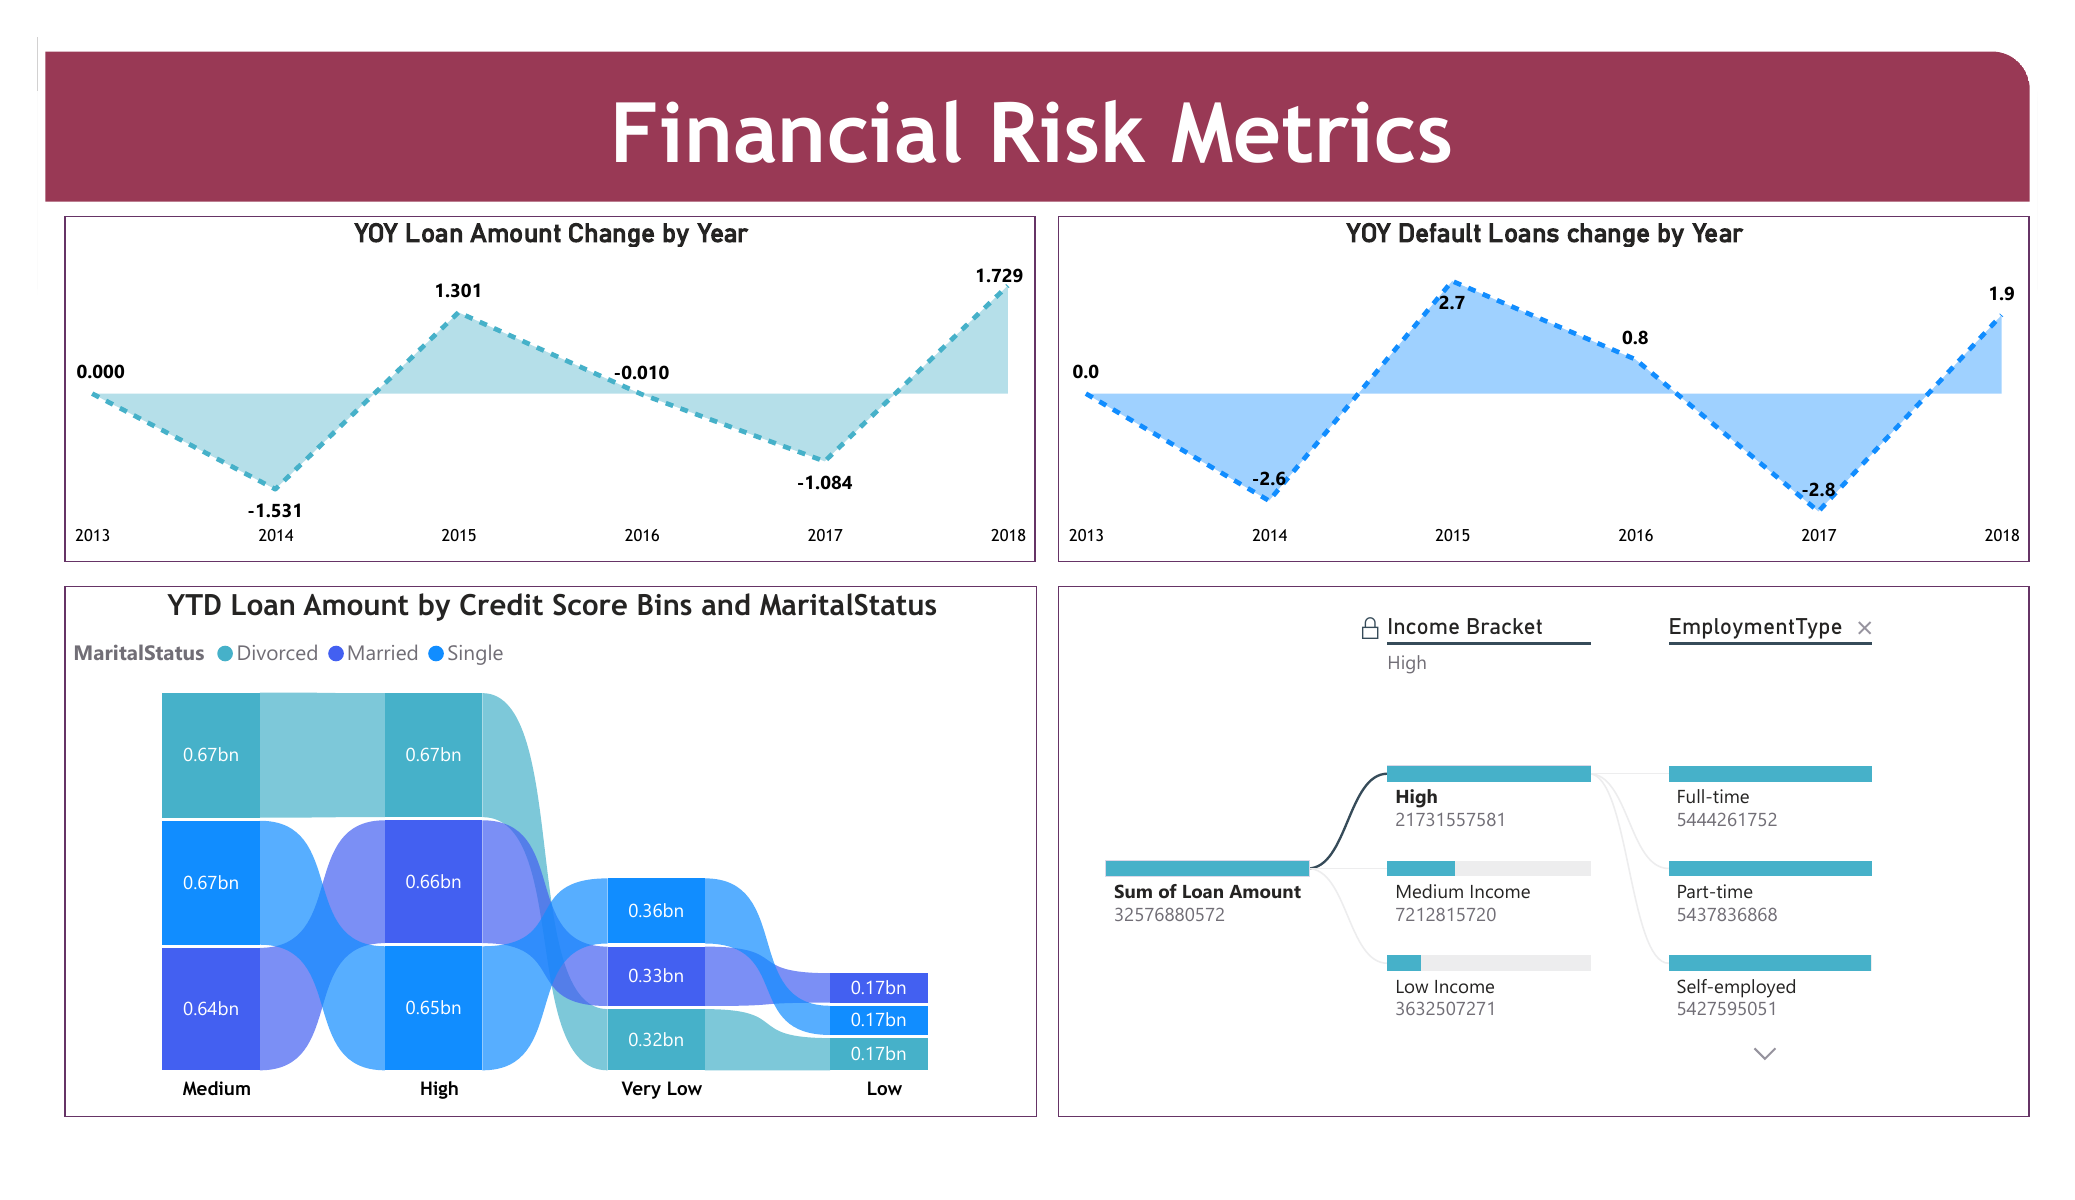

The dashboard page shown, as its layout file describes it:
{"tool":"powerbi","page":{"name":"Financial Risk Metrics","canvas":[1280,720],"ordinal":2},"visuals":[{"type":"shape","box":[4.6,9.1,1270,95.6],"z":0},{"type":"lineChart","fields":{"Y":["Measure 3.YOY Loan Amount Change"],"Category":["Loan_default.Year"]},"box":[17.2,113.8,622,221.9],"z":1000},{"type":"lineChart","fields":{"Category":["Loan_default.Year"],"Y":["Measure 3.YOY Default Loans change"]},"box":[653,113.8,622,221.9],"z":2000},{"type":"ribbonChart","fields":{"Series":["Loan_default.MaritalStatus"],"Category":["Loan_default.Credit Score Bins"],"Y":["Measure 3.YTD Loan Amount"]},"box":[17.2,350.7,623.1,340.3],"z":3000},{"type":"decompositionTreeVisual","fields":{"Analyze":["Sum(Loan_default.LoanAmount)"],"ExplainBy":["Loan_default.Income Bracket","Loan_default.EmploymentType"]},"box":[653,351,622,340],"z":3001}]}

Visuals, with their boxes on the page's 1280x720 design canvas (x1, y1, x2, y2). These are canvas units, not pixel positions in the 2075x1200 screenshot, which may show the page scaled, cropped or inside an application window:
shape: crop(5, 9, 1275, 105)
lineChart - Measure 3.YOY Loan Amount Change x Loan_default.Year: crop(17, 114, 639, 336)
lineChart - Loan_default.Year x Measure 3.YOY Default Loans change: crop(653, 114, 1275, 336)
ribbonChart - Loan_default.MaritalStatus x Loan_default.Credit Score Bins: crop(17, 351, 640, 691)
decompositionTreeVisual - Sum(Loan_default.LoanAmount) x Loan_default.Income Bracket: crop(653, 351, 1275, 691)
